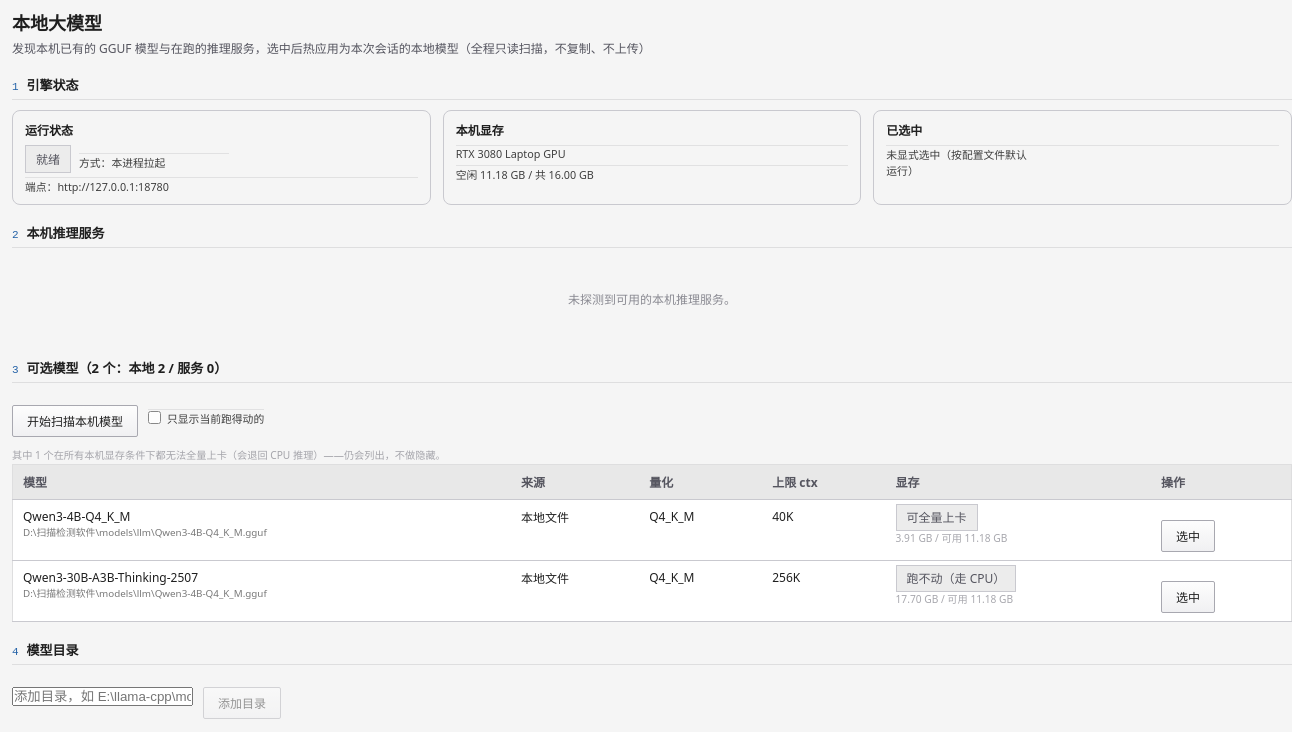
Test: LlmView › 勾选「只显示当前跑得动的」后过滤掉 infeasible
The image size is (1292, 732).
Step 1. Click the checkbox labelled "只显示当前跑得动的" → [154, 418], box [148,411,161,424]
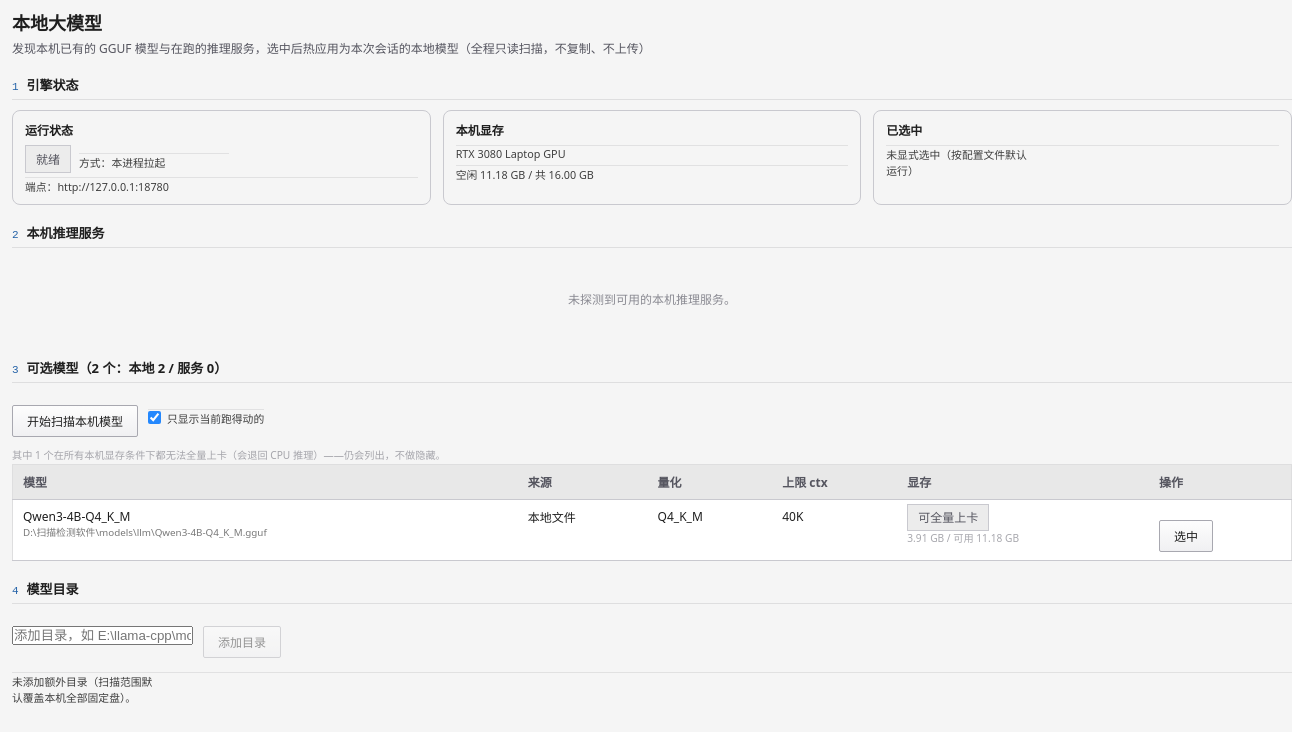
Expected: the text "Qwen3-4B-Q4_K_M" is shown, [23,508,130,525]
Expected: the text "Qwen3-30B-A3B-Thinking-2507" is gone
